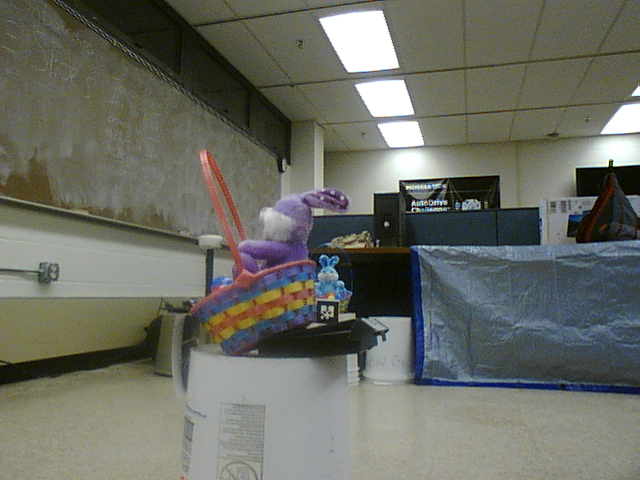bunny: (187, 147, 349, 356), (312, 253, 352, 318)
